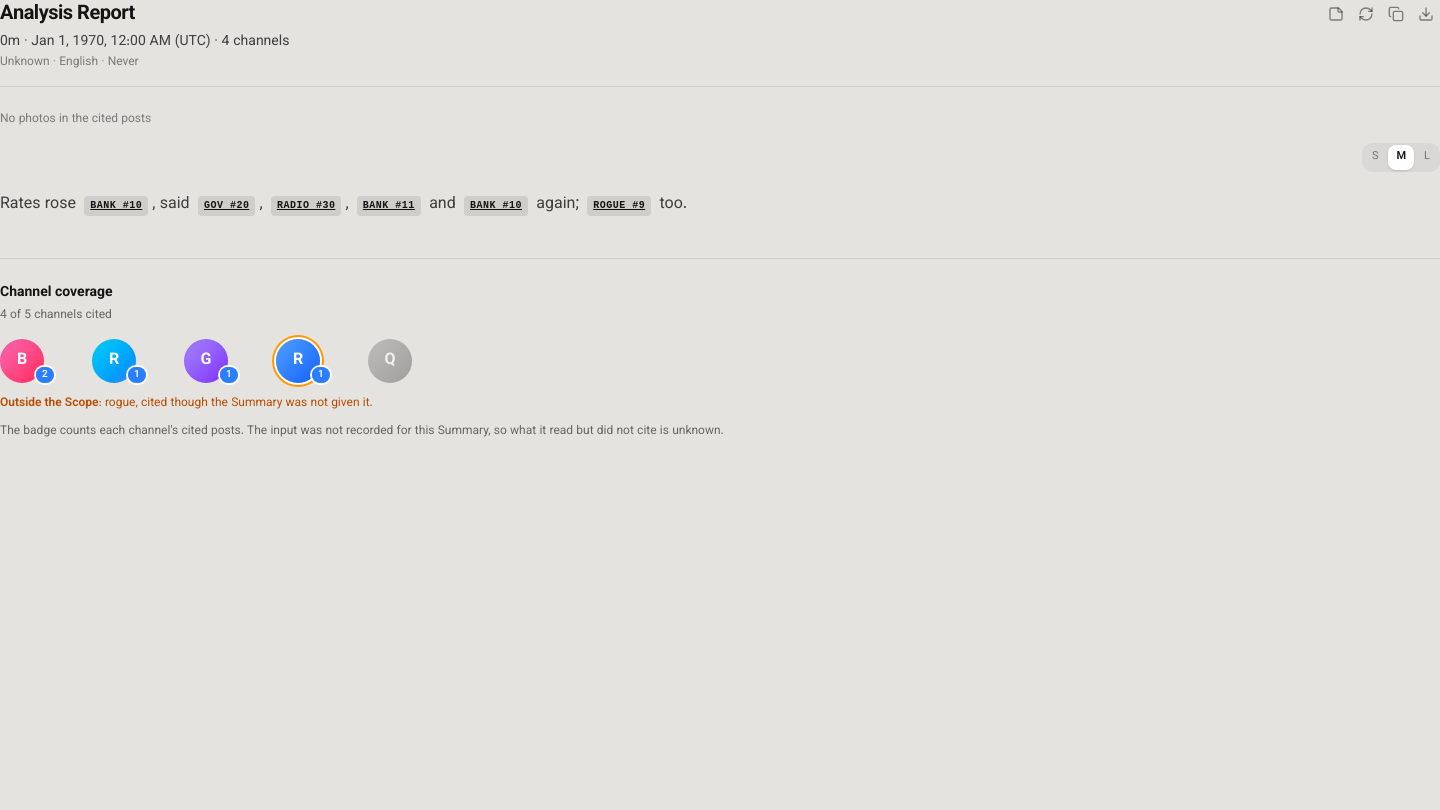
it: the Channel posts sheet › with no Covered Posts on record the sheet says so
This screenshot has width=1440, height=810.
Click the button "G 1".
click(206, 360)  # box [184, 338, 228, 382]
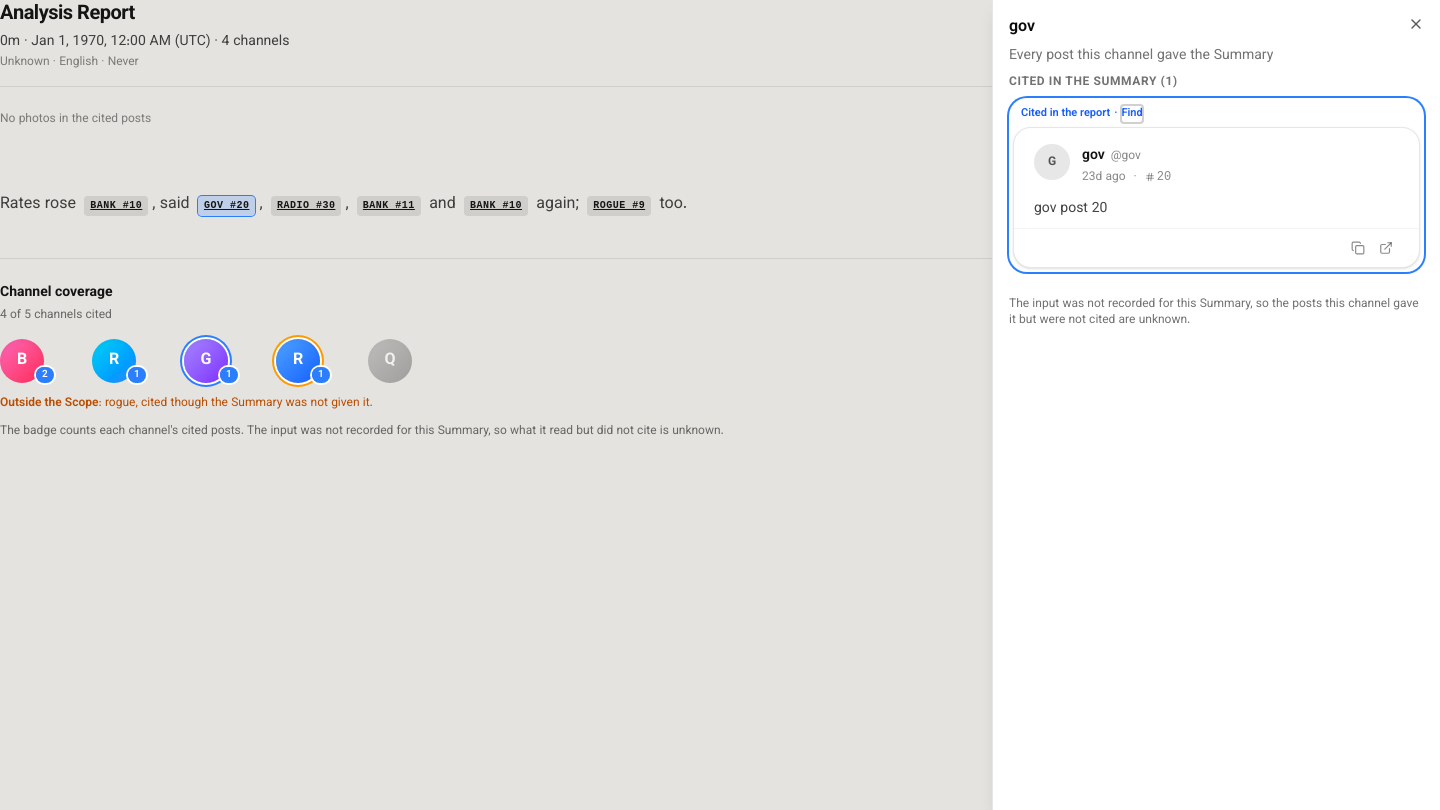
Now the heading "Cited in the summary (1)" is shown, box [1009, 74, 1178, 91]
Now the text "input was not recorded" is shown, box [1009, 295, 1419, 329]
